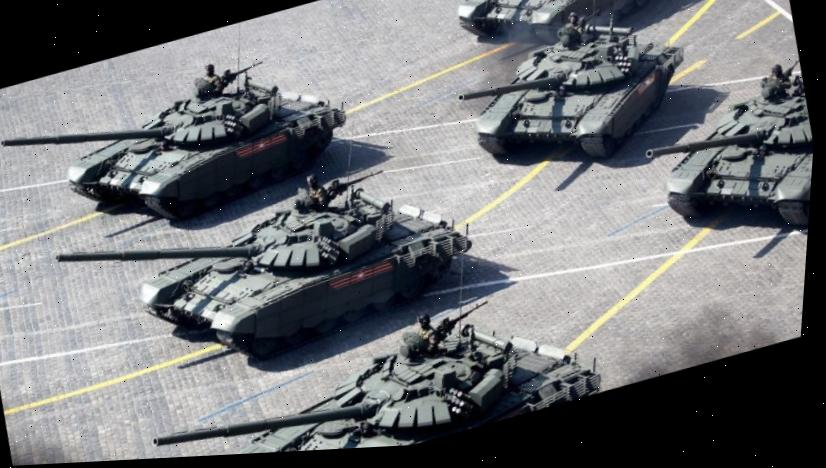tank: (48, 145, 485, 410), (130, 268, 598, 460), (0, 33, 363, 271), (438, 0, 699, 194), (625, 56, 819, 267), (397, 0, 685, 78)
